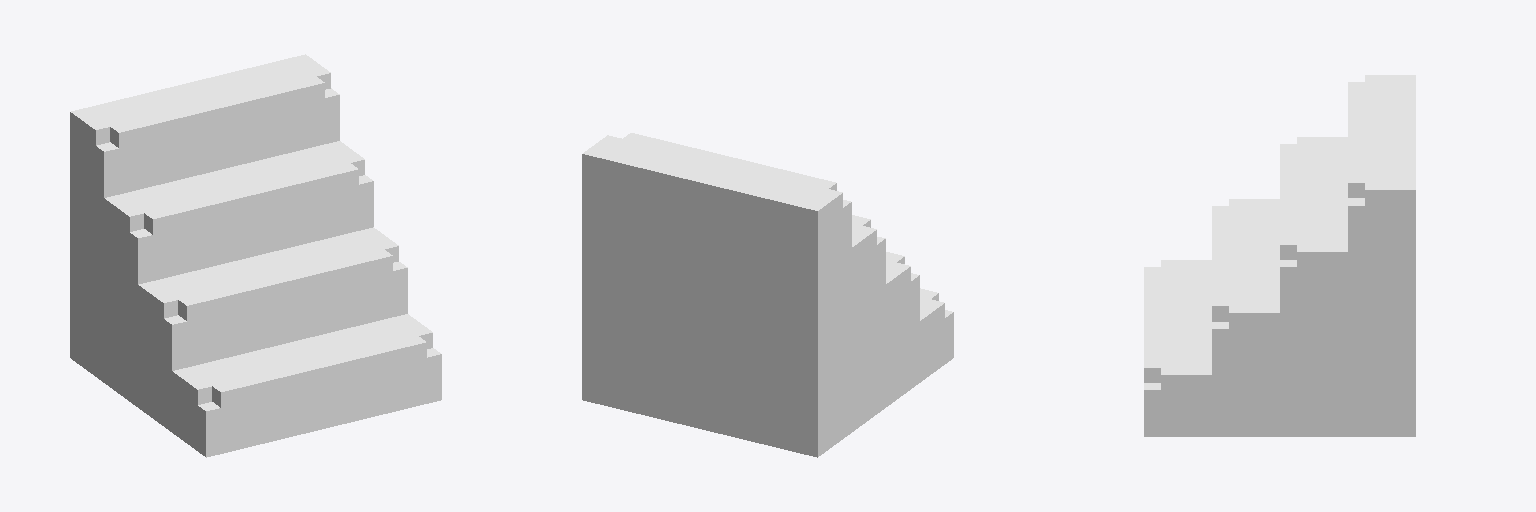
Rendered from Dungeon-7-Stair.obj.
3 views of the same model, side by side, from view 1: azimuth 30°, elevation 25°; view 2: azimuth 150°, elevation 25°; view 3: azimuth 270°, elevation 25° (orthographic).
Visible parts, largest first — view 1: Stair; view 2: Stair; view 3: Stair.
Part boxes in pixels (x1,y1,x2,y2): Stair: (70, 54, 441, 457); Stair: (582, 133, 953, 457); Stair: (1144, 75, 1415, 436).
Size of the model in its own units: 1.6 by 1.6 by 1.6.